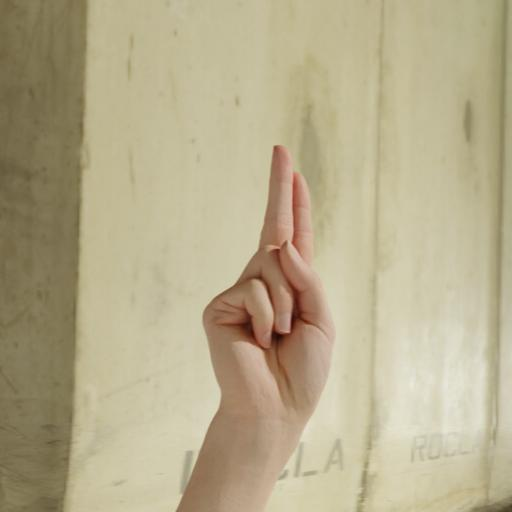U: (184, 132, 352, 508)
